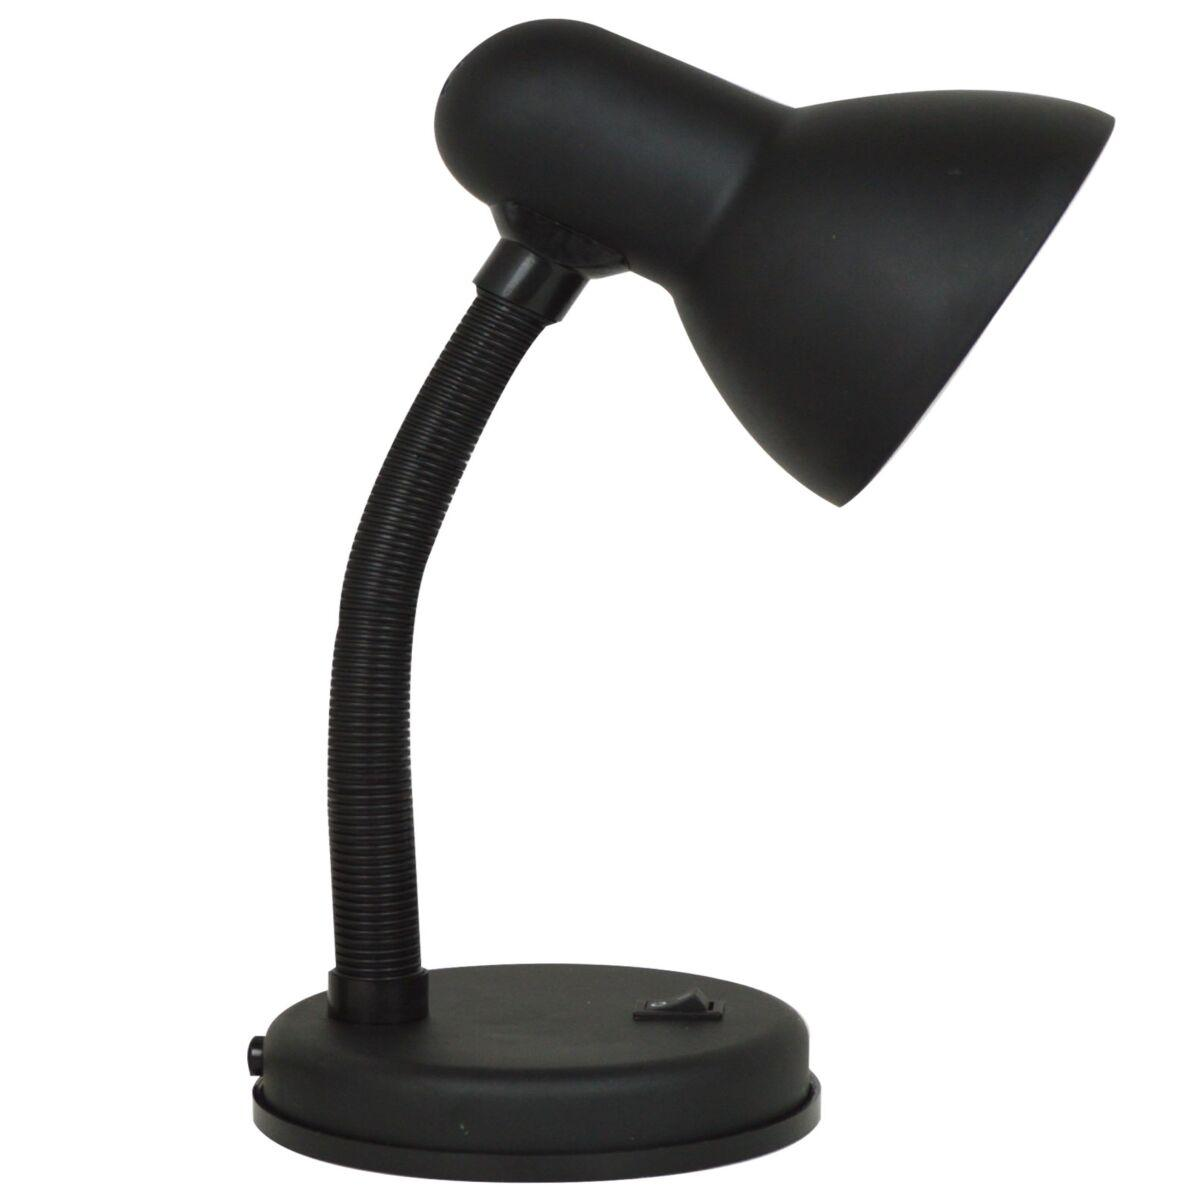lampu: (273, 9, 1109, 1200)
